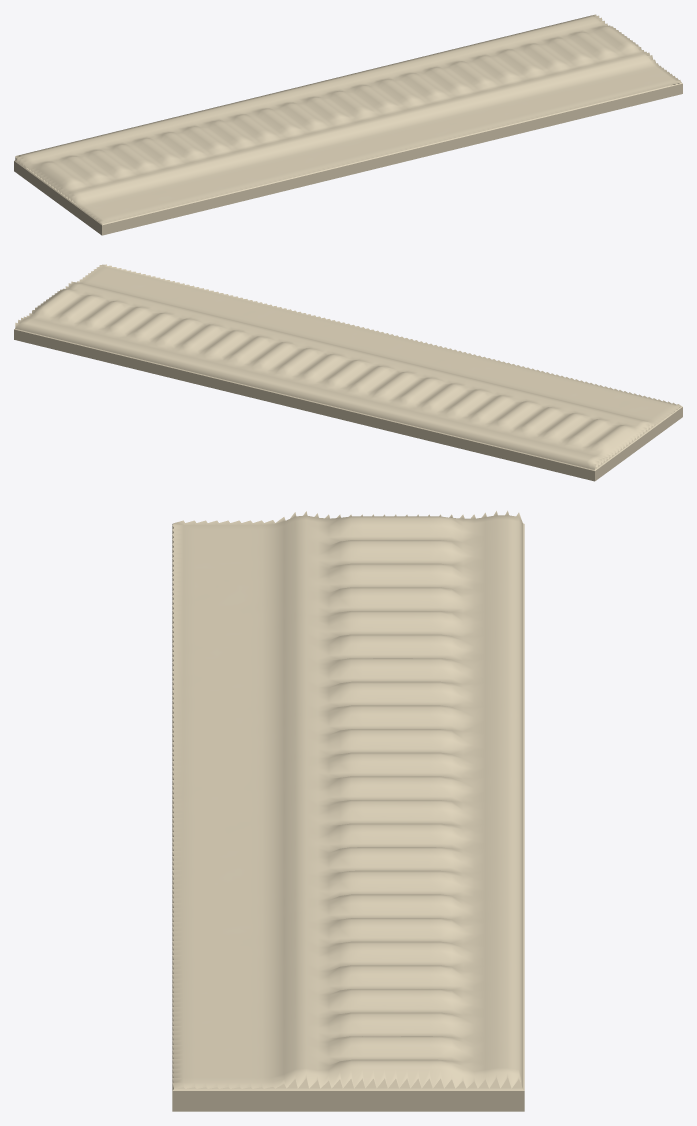
Rendered from mahsulot.glb.
3 views of the same model, one above another, from view 1: azimuth 30°, elevation 25°; view 2: azimuth 150°, elevation 25°; view 3: azimuth 270°, elevation 25° (orthographic). The views are drawn at different scales.
Parts seen in each view (by area): view 1: mahsulot; view 2: mahsulot; view 3: mahsulot.
Part boxes in pixels (x1=…): mahsulot: x1=14, y1=14, x2=682, y2=235; mahsulot: x1=14, y1=264, x2=682, y2=481; mahsulot: x1=172, y1=510, x2=524, y2=1111.
Bounding box in the file's own units: 1.2 × 0.0396 × 0.315.
